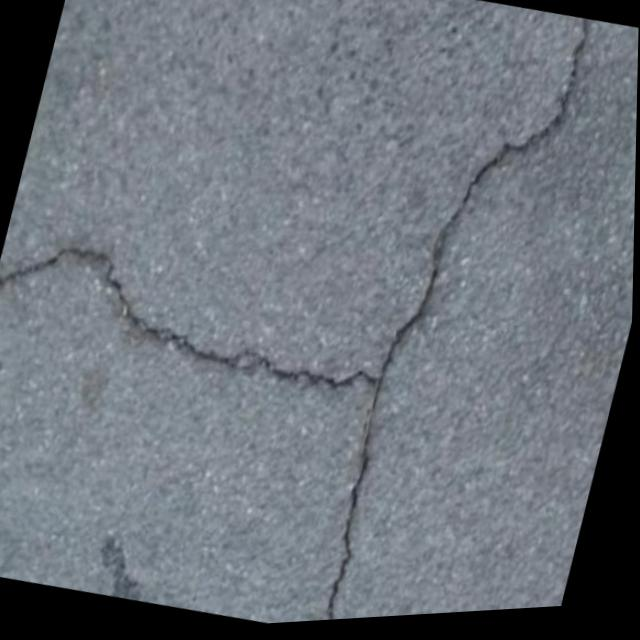Crack: (301, 0, 615, 625), (0, 202, 420, 435)
